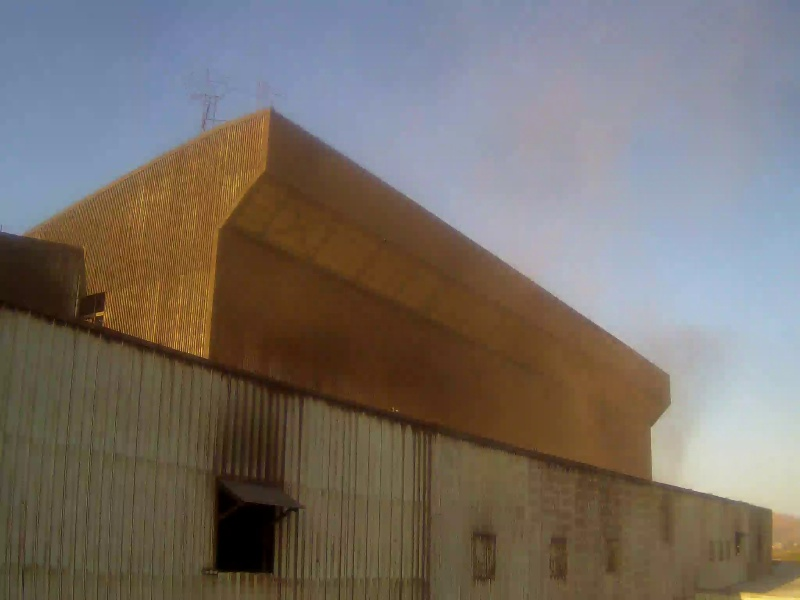Pessimo: (223, 102, 694, 505)
